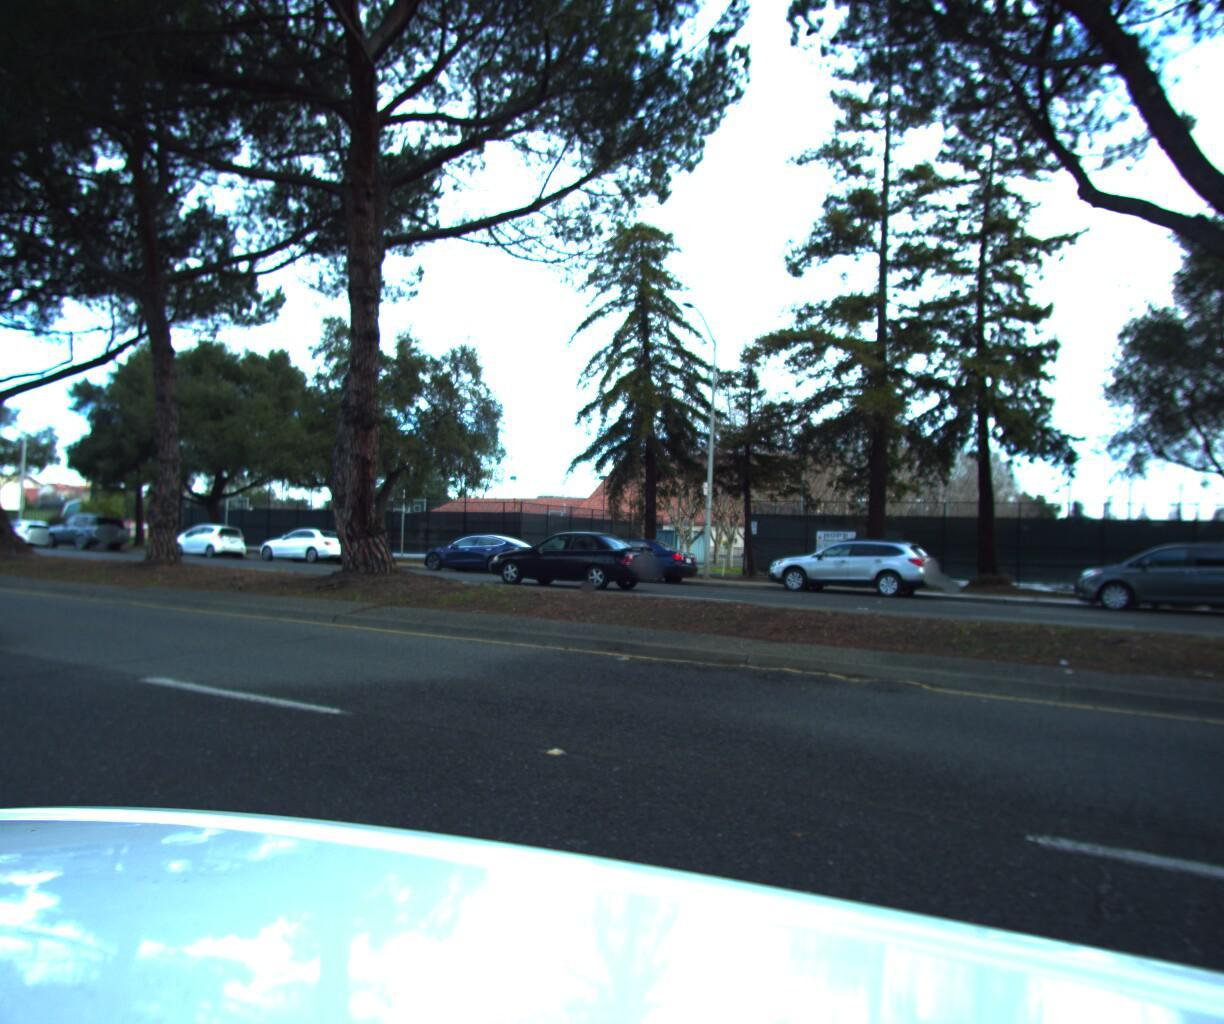car: (1067, 529, 1224, 627), (760, 529, 942, 600), (481, 523, 667, 589), (556, 530, 705, 584), (411, 527, 547, 577), (249, 521, 366, 564), (36, 508, 133, 552), (165, 517, 251, 555), (1218, 481, 1224, 1024), (0, 515, 60, 547), (0, 514, 7, 545)
